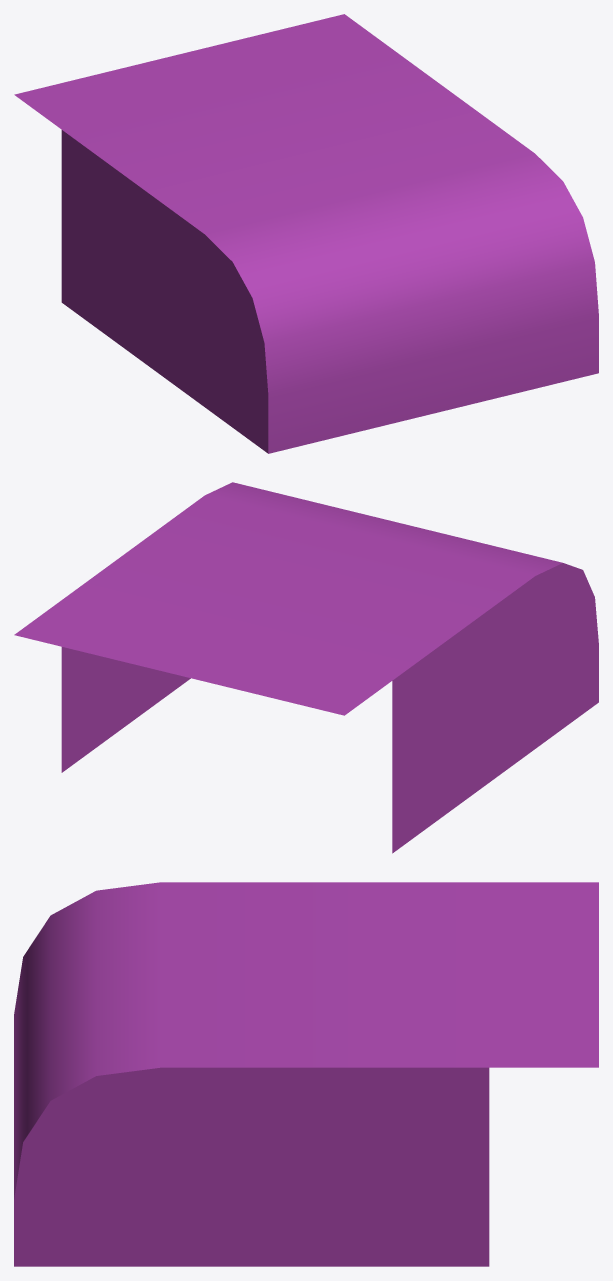
File: BigWin_CeilingUp_B.FBX
3 views of the same model, one above another, from view 1: azimuth 30°, elevation 25°; view 2: azimuth 150°, elevation 25°; view 3: azimuth 270°, elevation 25° (orthographic). The views are drawn at different scales.
Parts seen in each view (by area): view 1: BigWin_CeilingUp_B; view 2: BigWin_CeilingUp_B; view 3: BigWin_CeilingUp_B.
Part boxes in pixels (bbox=[...]): BigWin_CeilingUp_B: bbox=[14, 14, 598, 453]; BigWin_CeilingUp_B: bbox=[14, 482, 598, 853]; BigWin_CeilingUp_B: bbox=[14, 882, 598, 1266].
Size of the model in its own units: 300 by 150 by 400.
